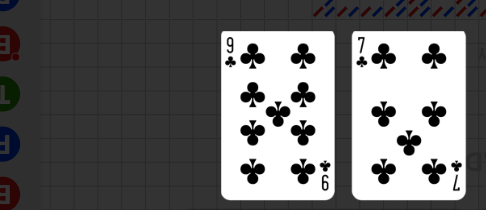7C: (449, 158, 463, 193)
9C: (223, 35, 237, 70)
